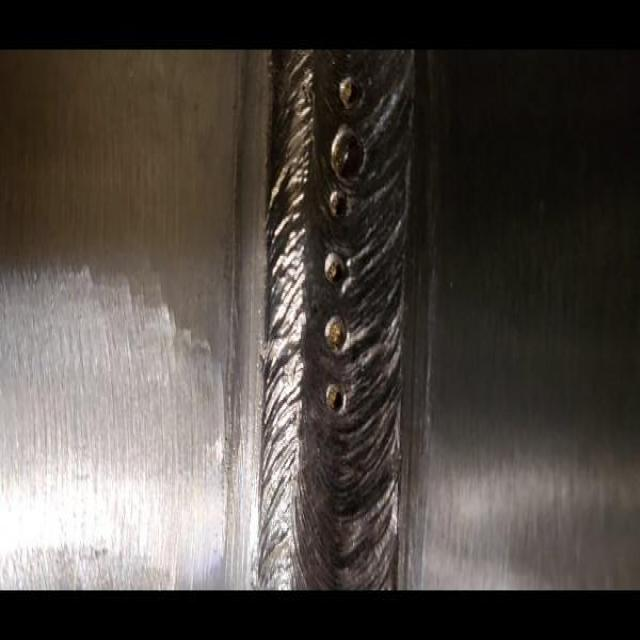Welding Line: (273, 61, 397, 588)
Workpiece: (4, 49, 638, 590)
porosity: (322, 74, 366, 416)
